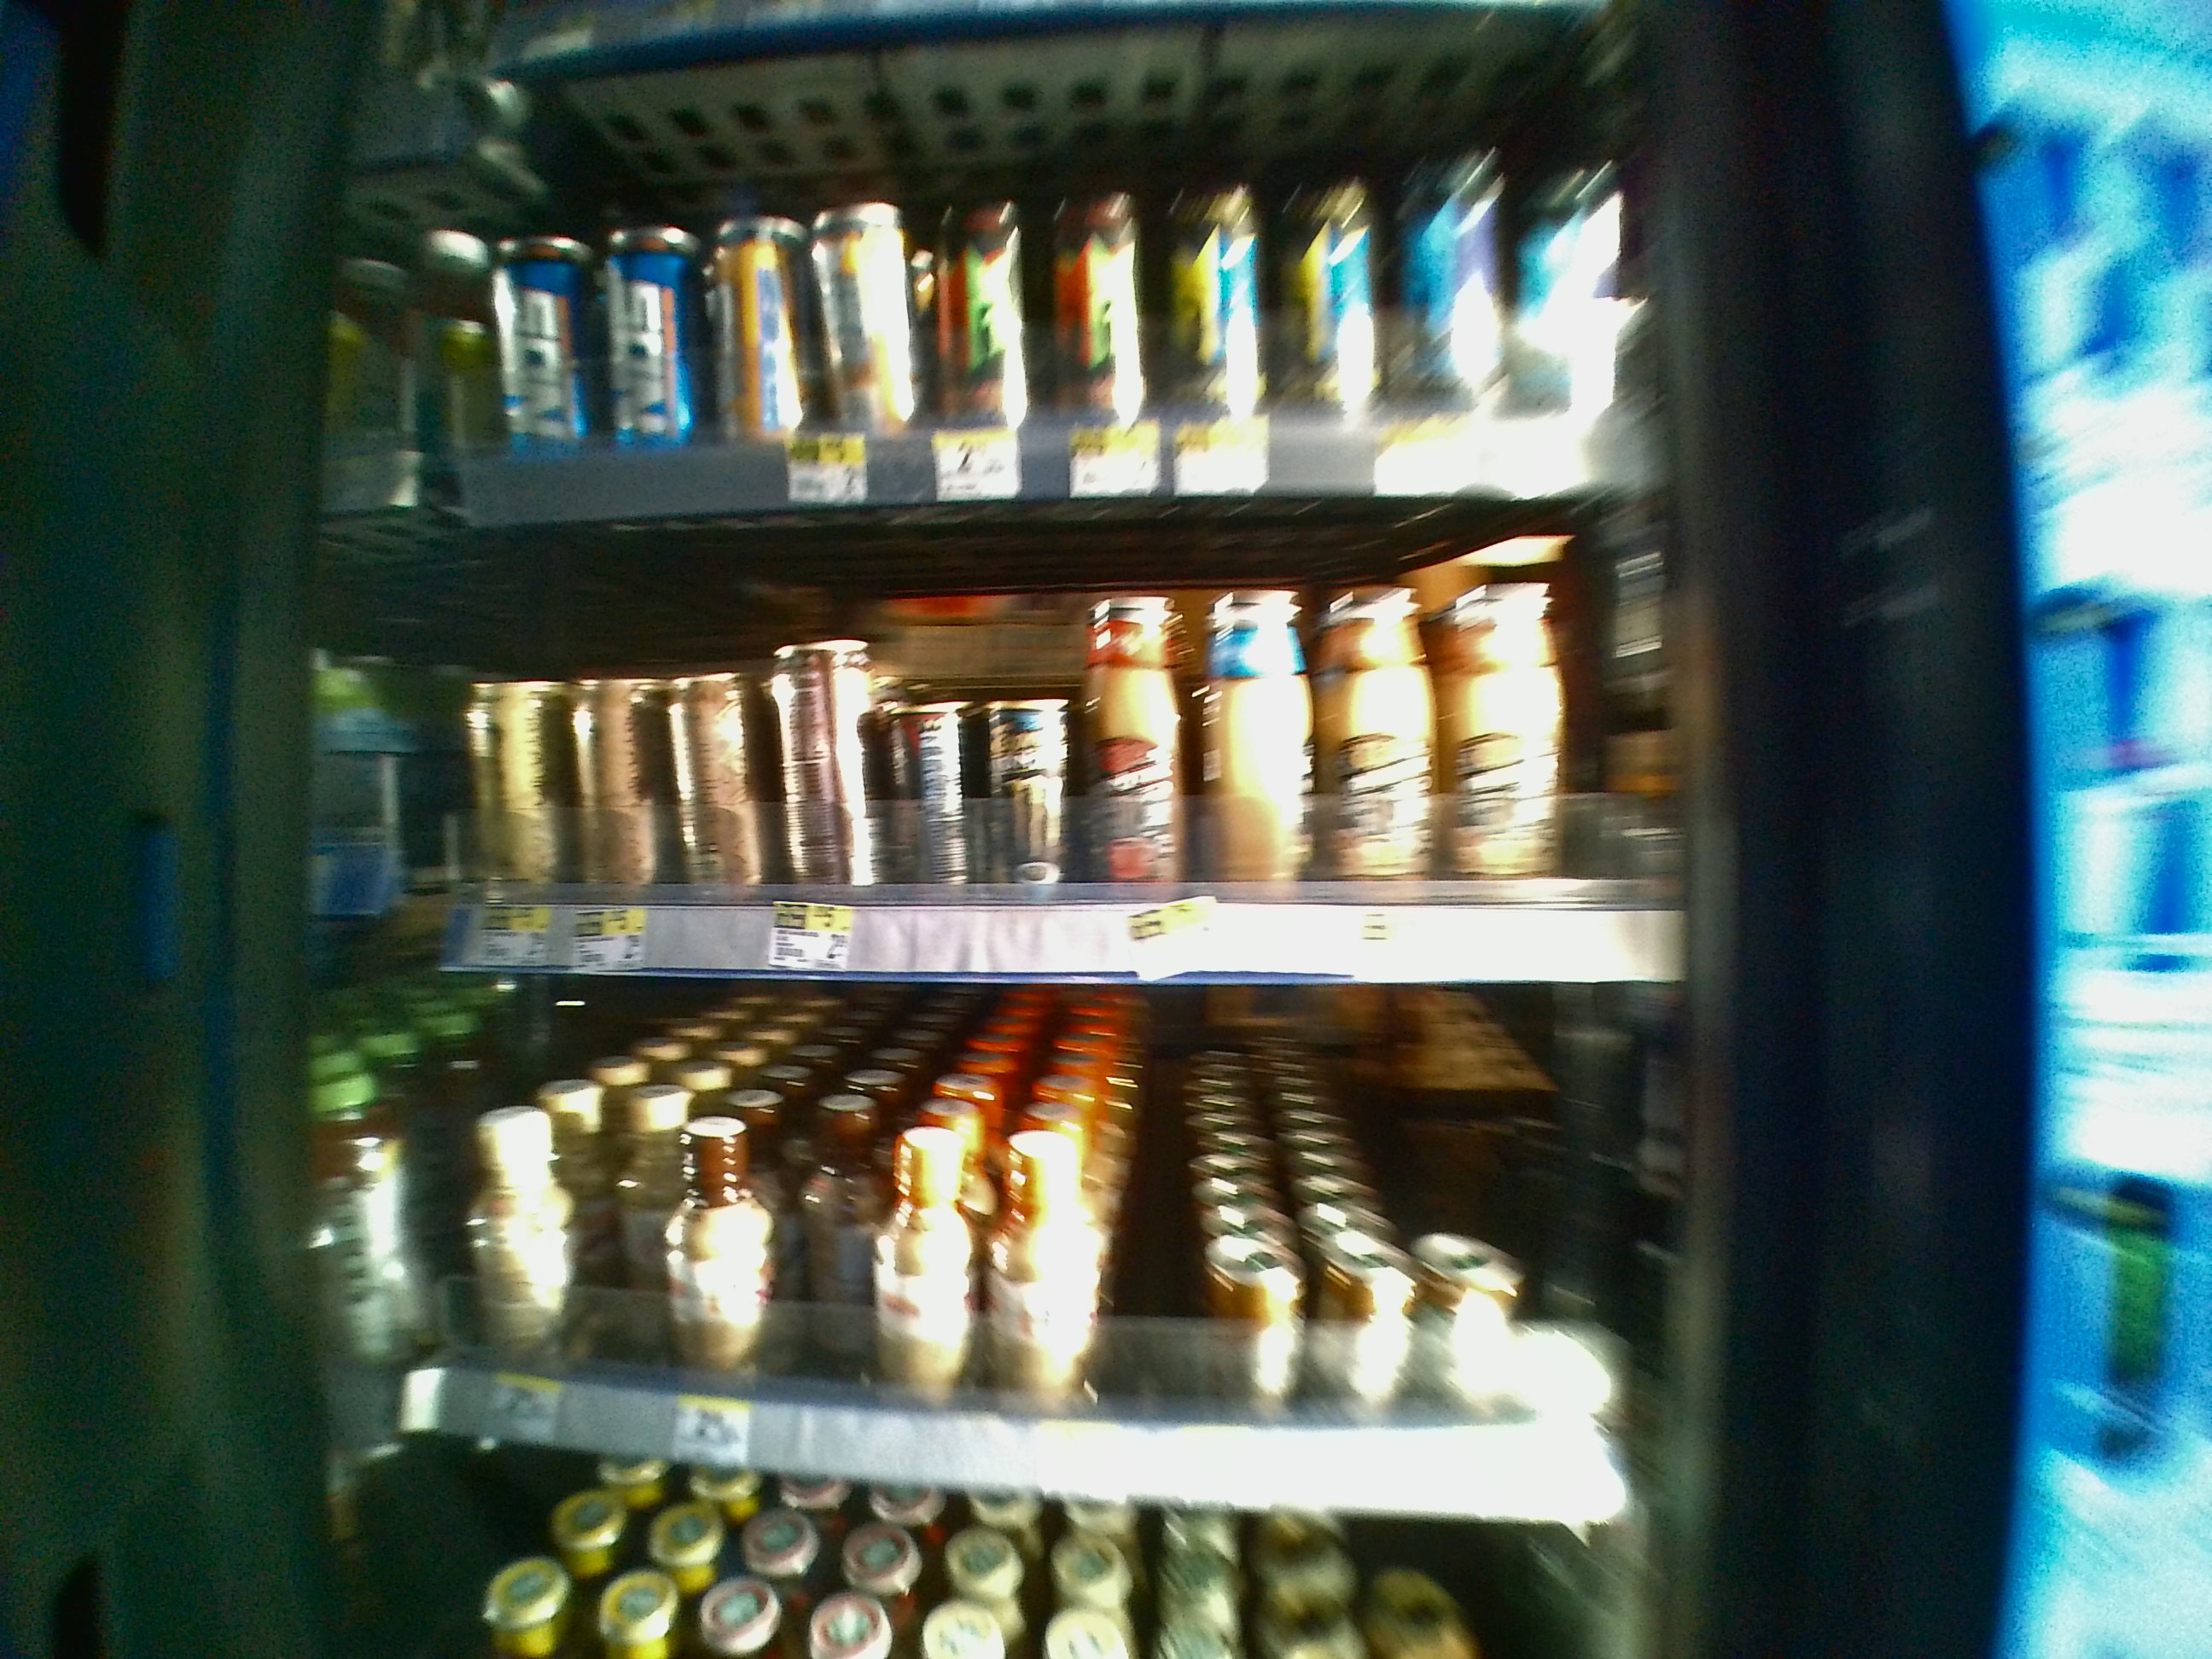shelf: (420, 979, 1731, 1485), (437, 512, 1719, 986)
